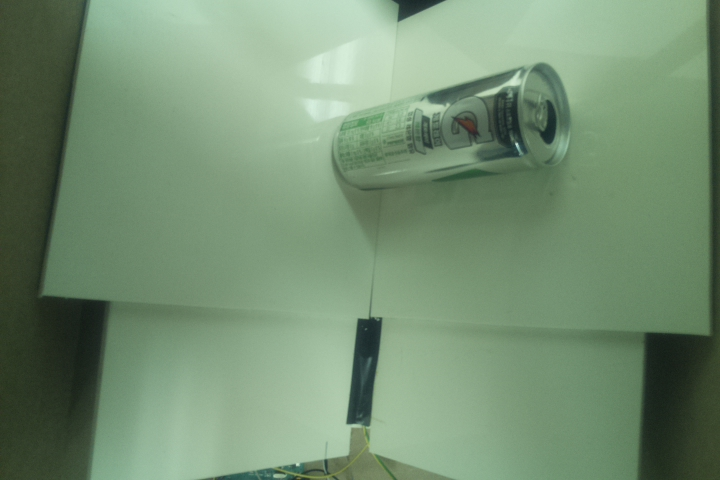can: (328, 60, 573, 195)
